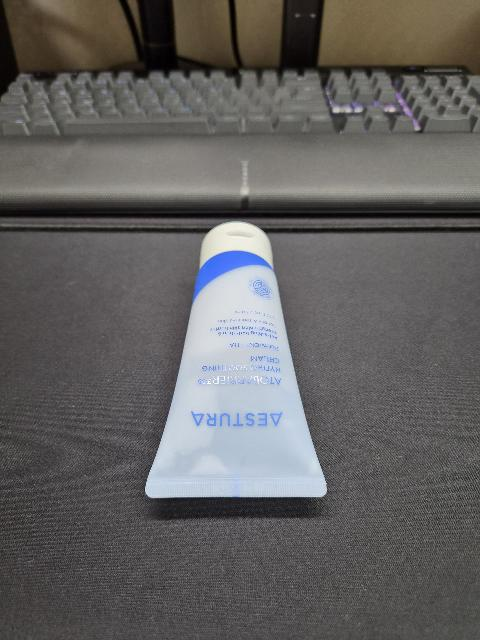handcream: (145, 222, 327, 498)
